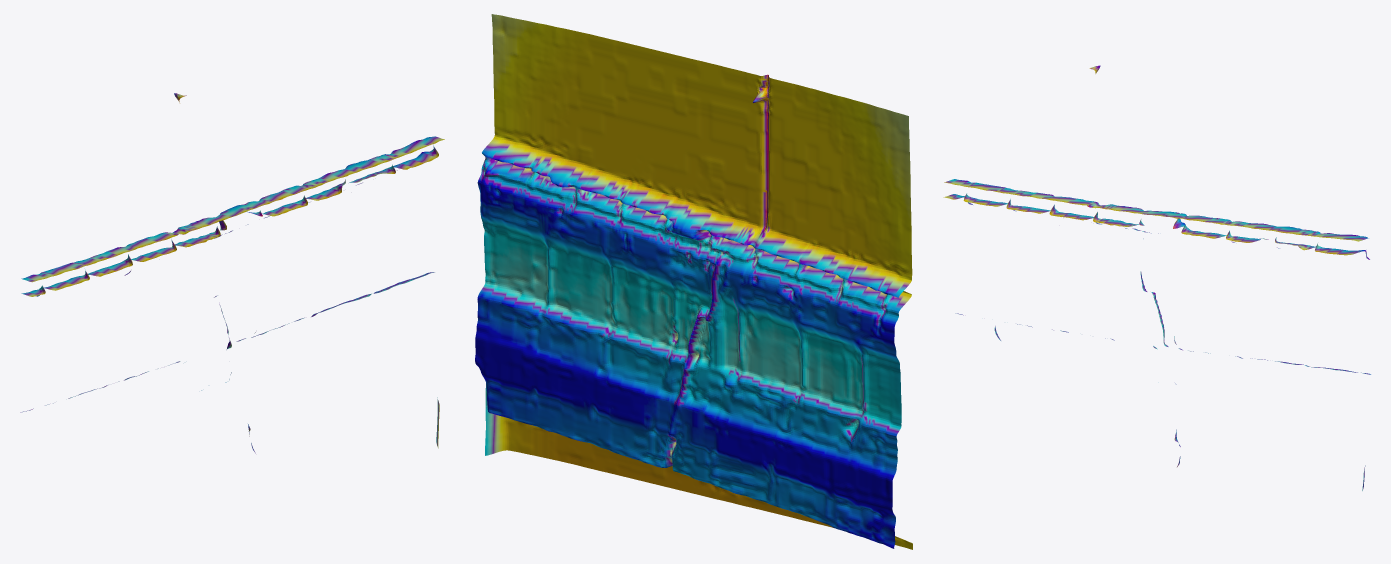
The picture shows the model from 3 angles, left to right: view 1: azimuth 30°, elevation 25°; view 2: azimuth 150°, elevation 25°; view 3: azimuth 330°, elevation 25°; orthographic projection.
Visible parts, largest first — view 1: world; view 2: world; view 3: world.
Part boxes in pixels (x1,y1,x2,y2): world: [20, 93, 444, 453]; world: [475, 14, 912, 549]; world: [943, 65, 1370, 490].
Bounding box in the file's own units: 299 × 299 × 30.
